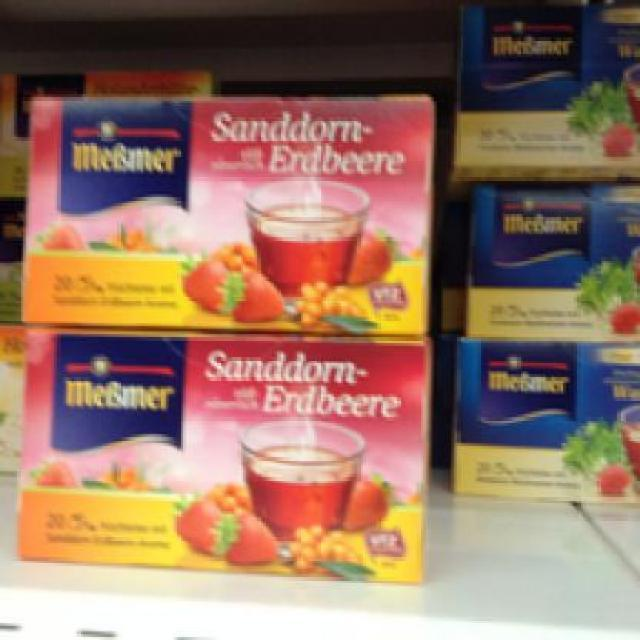Tea: (13, 320, 430, 580), (17, 89, 432, 337), (445, 334, 638, 506), (448, 3, 634, 166), (457, 183, 637, 334)
